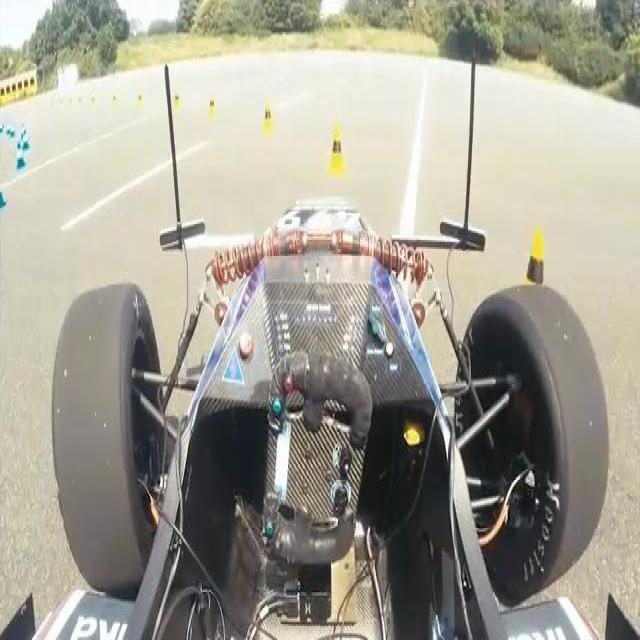blue_cone: (15, 146, 25, 171), (0, 182, 9, 206), (22, 130, 30, 151), (5, 124, 11, 143), (11, 128, 16, 142)
yellow_cone: (510, 220, 560, 368), (327, 119, 347, 176), (260, 100, 274, 140), (207, 94, 218, 123), (171, 89, 182, 116), (136, 90, 145, 114), (90, 94, 96, 113), (112, 92, 117, 112), (78, 98, 83, 110), (69, 100, 73, 110)
